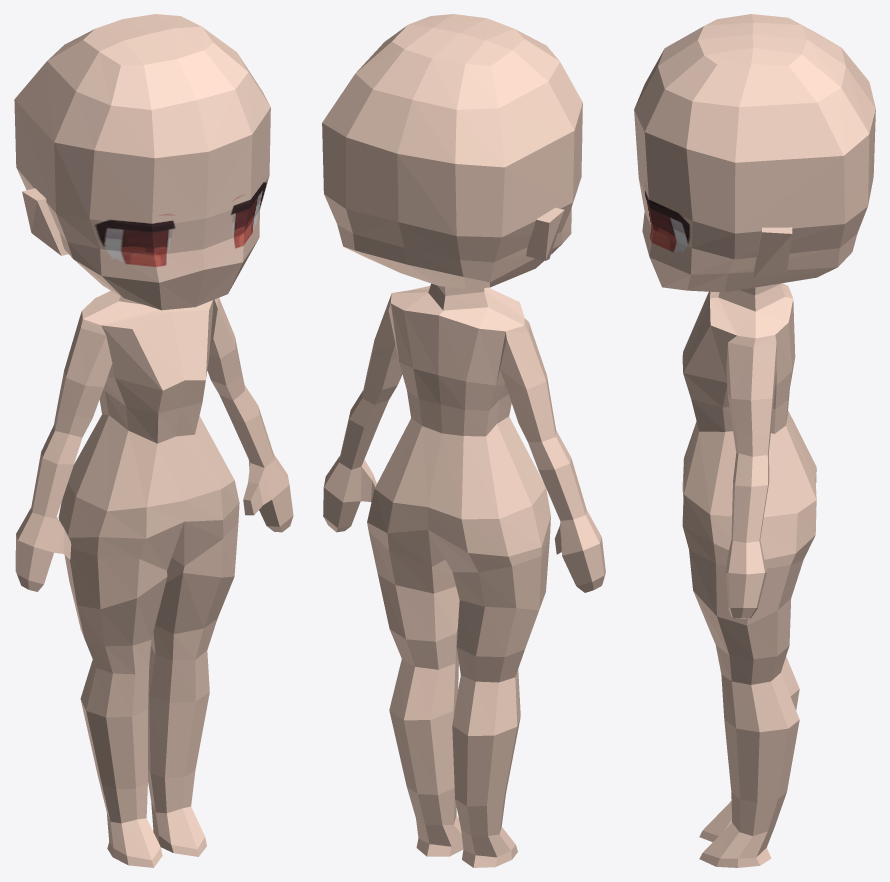
File: body.obj
3 views of the same model, side by side, from view 1: azimuth 30°, elevation 25°; view 2: azimuth 150°, elevation 25°; view 3: azimuth 270°, elevation 25° (orthographic).
Visible parts, largest first — view 1: continuous_body, earL; view 2: continuous_body, earL; view 3: continuous_body, earR.
Boxes of the visible parts, left/top/right/bottom form: continuous_body: left=14, top=14, right=293, bottom=867; earL: left=22, top=188, right=68, bottom=255; continuous_body: left=322, top=14, right=605, bottom=867; earL: left=526, top=207, right=564, bottom=260; continuous_body: left=634, top=14, right=875, bottom=867; earR: left=752, top=227, right=792, bottom=279.
Size of the model in its own units: 0.9126 by 2.57 by 0.691.
Materials: 2 (1 with a texture image).
